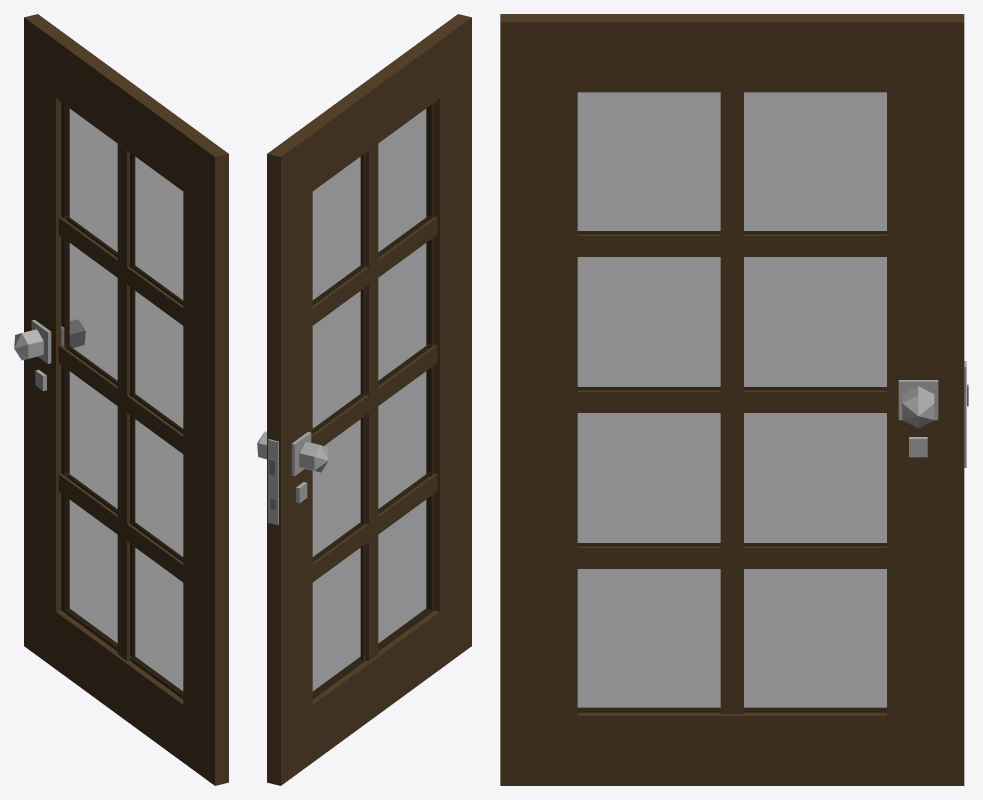
File: SM_doorHouse_02.glb
3 renders of one model, left to right at view 1: azimuth 30°, elevation 25°; view 2: azimuth 150°, elevation 25°; view 3: azimuth 270°, elevation 25°, orthographic. The views are drawn at different scales.
Visible parts, largest first — view 1: SM_doorHouse_02; view 2: SM_doorHouse_02; view 3: SM_doorHouse_02.
Part boxes in pixels (x1,y1,x2,y2): SM_doorHouse_02: (14, 14, 228, 785); SM_doorHouse_02: (257, 14, 471, 785); SM_doorHouse_02: (500, 14, 968, 785).
Size of the model in its own units: 0.2595 by 2.18 by 1.21.
3 materials, 1 textured.
